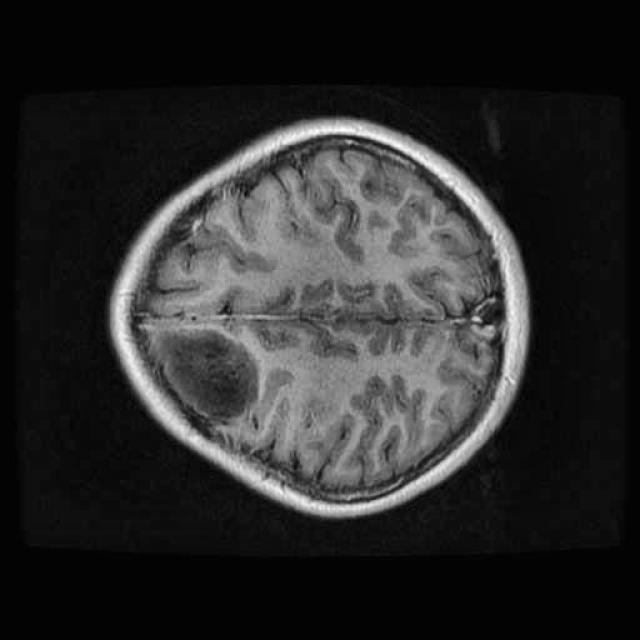Tumor: (133, 307, 277, 443)
